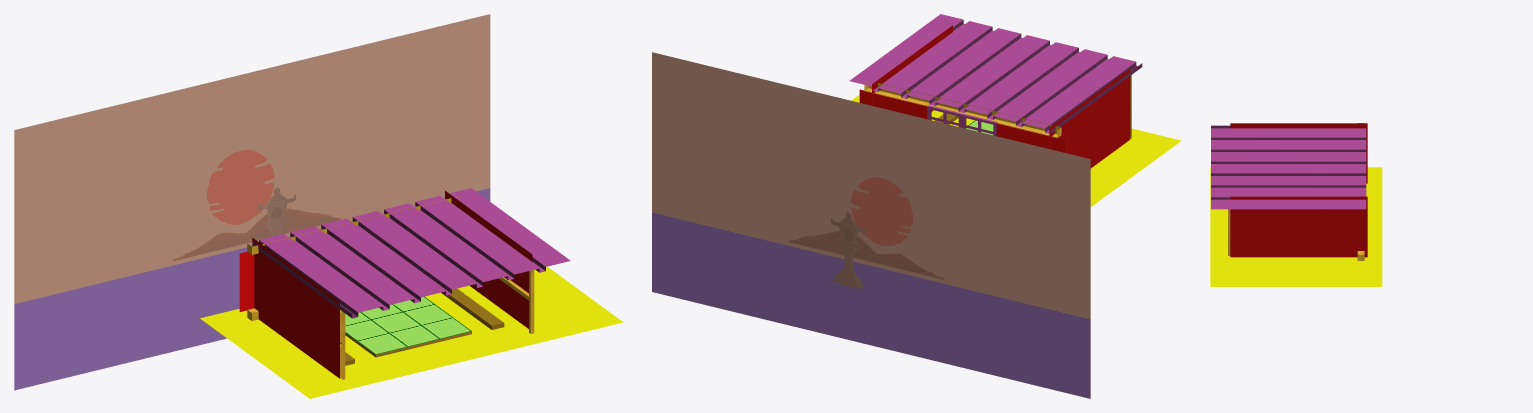
The model's file is parappa.dae.
3 renders of one model, left to right at view 1: azimuth 30°, elevation 25°; view 2: azimuth 150°, elevation 25°; view 3: azimuth 270°, elevation 25°, orthographic. The views are drawn at different scales.
Parts seen in each view (by area): view 1: background, ceil, floor, wall left, wall right, wall back, pupils platform right, wood suport right; view 2: background, ceil, wall left, floor, wall back, wood back wall top, wall right, back windows; view 3: ceil, floor, wall right, wall left.
Part boxes in pixels (bbox=[...]): background: bbox=[14, 14, 490, 390]; ceil: bbox=[252, 188, 570, 318]; floor: bbox=[200, 266, 623, 398]; wall left: bbox=[252, 237, 339, 378]; wall right: bbox=[445, 190, 532, 328]; wall back: bbox=[239, 251, 254, 311]; pupils platform right: bbox=[441, 288, 504, 329]; wood suport right: bbox=[499, 270, 534, 333]; background: bbox=[652, 52, 1090, 398]; ceil: bbox=[849, 14, 1142, 133]; wall left: bbox=[1049, 69, 1130, 168]; floor: bbox=[851, 95, 1181, 206]; wall back: bbox=[859, 89, 1064, 152]; wood back wall top: bbox=[864, 80, 1061, 138]; wall right: bbox=[872, 25, 952, 111]; back windows: bbox=[927, 105, 997, 135]; ceil: bbox=[1211, 125, 1366, 209]; floor: bbox=[1210, 167, 1382, 286]; wall right: bbox=[1230, 196, 1367, 257]; wall left: bbox=[1230, 123, 1367, 183].
Size of the model in its own units: 1.72 by 1.24 by 0.9013.
